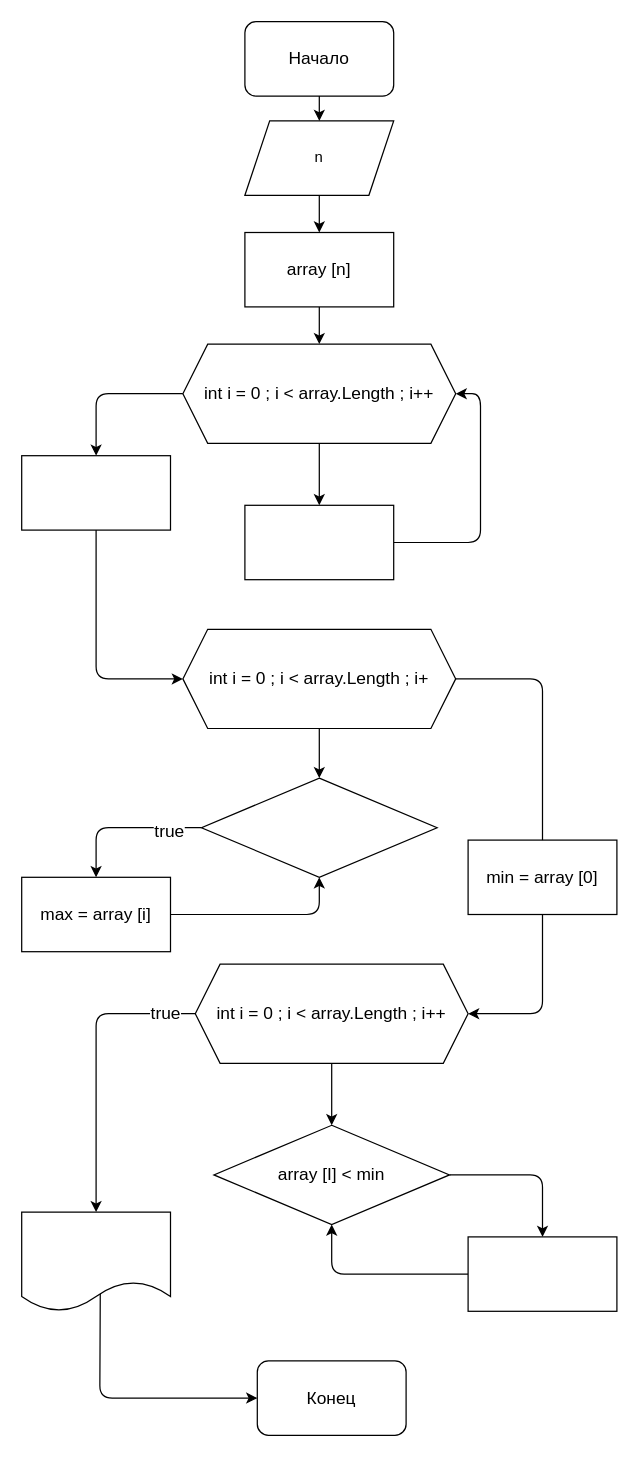
Some shapes in this 639 by 1457 pixel diagram are drawn without their labels. Here are the shapes that lost their labels. From the top down, the box of each, then its label:
(20, 454, 170, 530): max = array [0]
(244, 504, 394, 580): array [i] = random
(200, 777, 437, 877): array [I] > max
(20, 1211, 170, 1311): print max - min
(467, 1236, 617, 1311): min = array [i]
